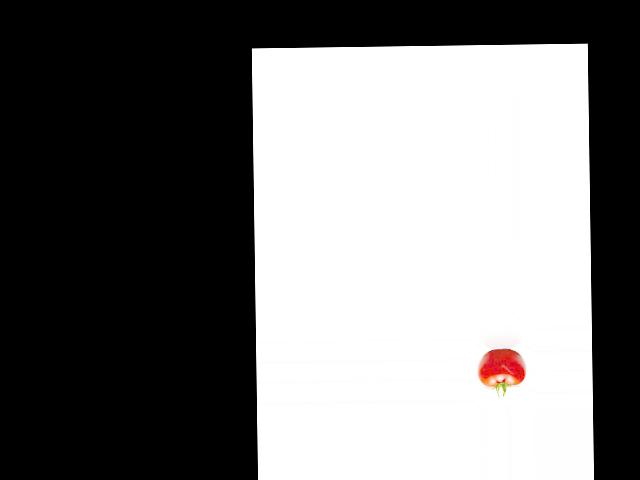tomato: (477, 348, 527, 387)
